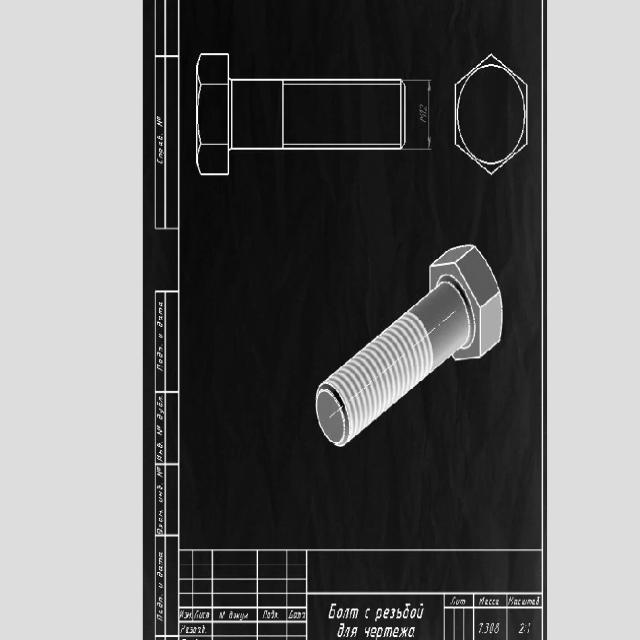marking_line: (428, 81, 431, 148), (401, 79, 432, 82), (402, 148, 433, 151)
numeric: (324, 599, 431, 640), (155, 466, 165, 534), (155, 548, 163, 631), (156, 301, 164, 383), (156, 394, 165, 458), (475, 619, 503, 639), (417, 101, 429, 127), (518, 617, 533, 636), (449, 594, 469, 607)
